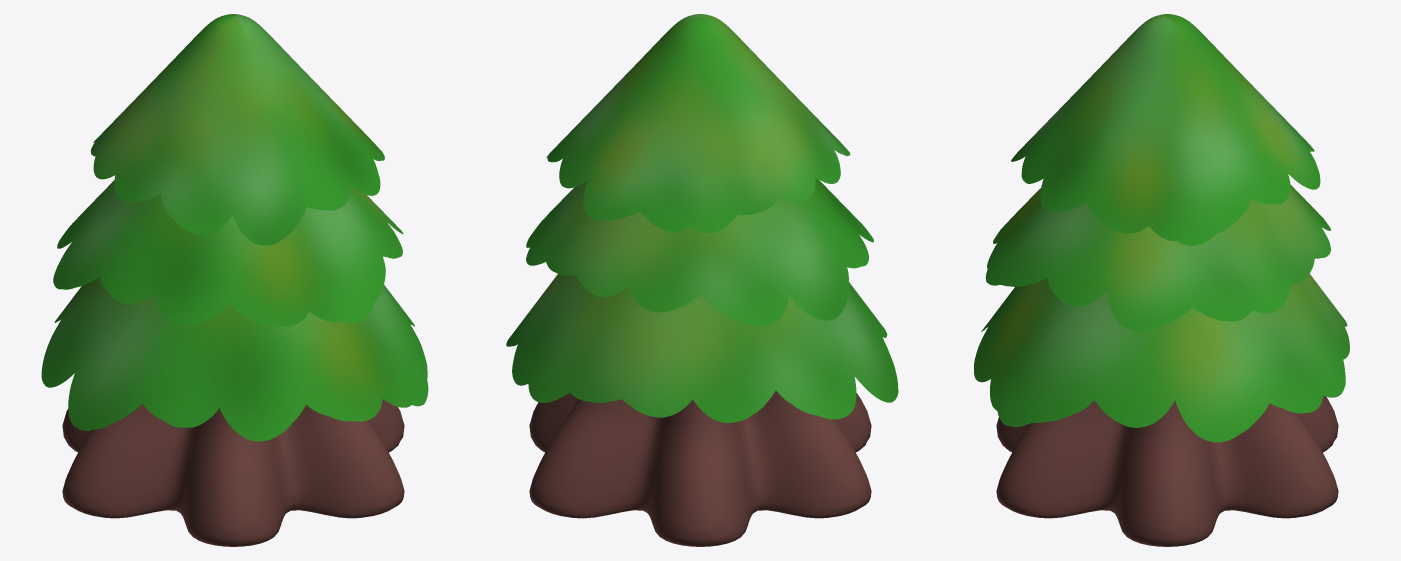
Rendered from Tree.fbx.
3 views of the same model, side by side, from view 1: azimuth 30°, elevation 25°; view 2: azimuth 150°, elevation 25°; view 3: azimuth 270°, elevation 25° (orthographic).
Visible parts, largest first — view 1: Cylinder.003, Cylinder.001, Cylinder, Cylinder.002; view 2: Cylinder.003, Cylinder.001, Cylinder, Cylinder.002; view 3: Cylinder.003, Cylinder.001, Cylinder, Cylinder.002.
Boxes of the visible parts, <box> form: Cylinder.003: <box>90,14,384,245</box>; Cylinder.001: <box>41,277,428,441</box>; Cylinder: <box>62,399,404,546</box>; Cylinder.002: <box>53,180,403,326</box>; Cylinder.003: <box>546,14,850,232</box>; Cylinder.001: <box>506,274,898,422</box>; Cylinder: <box>529,390,871,546</box>; Cylinder.002: <box>526,178,873,325</box>; Cylinder.003: <box>1011,14,1320,245</box>; Cylinder.001: <box>974,273,1349,442</box>; Cylinder: <box>996,396,1338,546</box>; Cylinder.002: <box>985,184,1330,331</box>.
Bounding box in the file's own units: 428 × 490 × 430.
2 materials, 1 textured.
